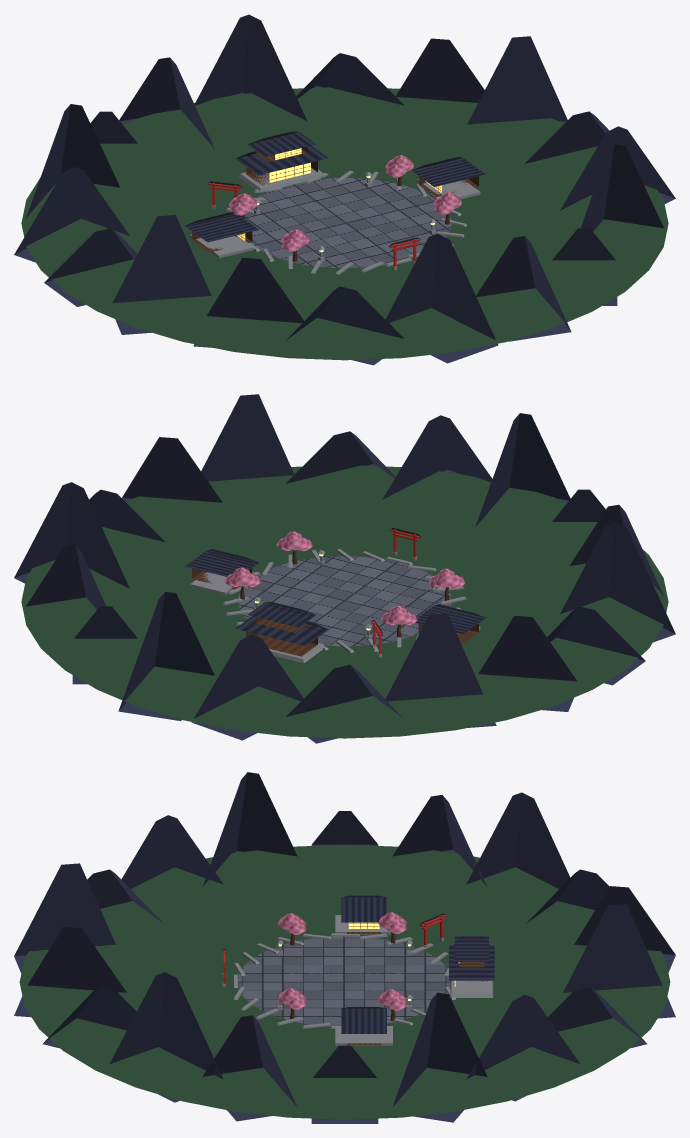
The model's file is arena_village.glb.
The picture shows the model from 3 angles, top to bottom: view 1: azimuth 30°, elevation 25°; view 2: azimuth 150°, elevation 25°; view 3: azimuth 270°, elevation 25°; orthographic projection.
Parts seen in each view (by area): view 1: VillageArena; view 2: VillageArena; view 3: VillageArena.
Part boxes in pixels (x1,y1,x2,y2): VillageArena: (14, 14, 675, 365); VillageArena: (14, 394, 675, 743); VillageArena: (14, 772, 675, 1123).
Bounding box in the file's own units: 138 × 23 × 138.
1 material, 1 textured.
